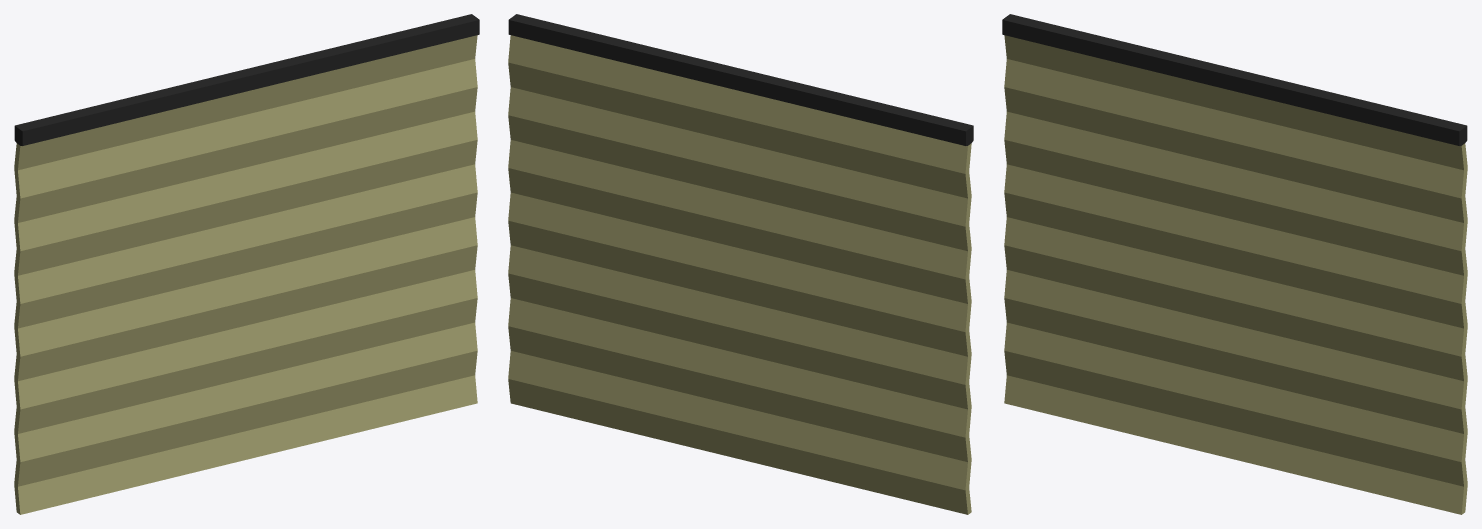
File: blinds.fbx
3 renders of one model, left to right at view 1: azimuth 30°, elevation 25°; view 2: azimuth 150°, elevation 25°; view 3: azimuth 330°, elevation 25°, orthographic.
Visible parts, largest first — view 1: Blinds; view 2: Blinds; view 3: Blinds.
Boxes of the visible parts, x1,y1,x2,y2 form: Blinds: (14, 14, 479, 514); Blinds: (508, 14, 973, 514); Blinds: (1002, 14, 1467, 514).
Size of the model in its own units: 187 by 5.88 by 150.
